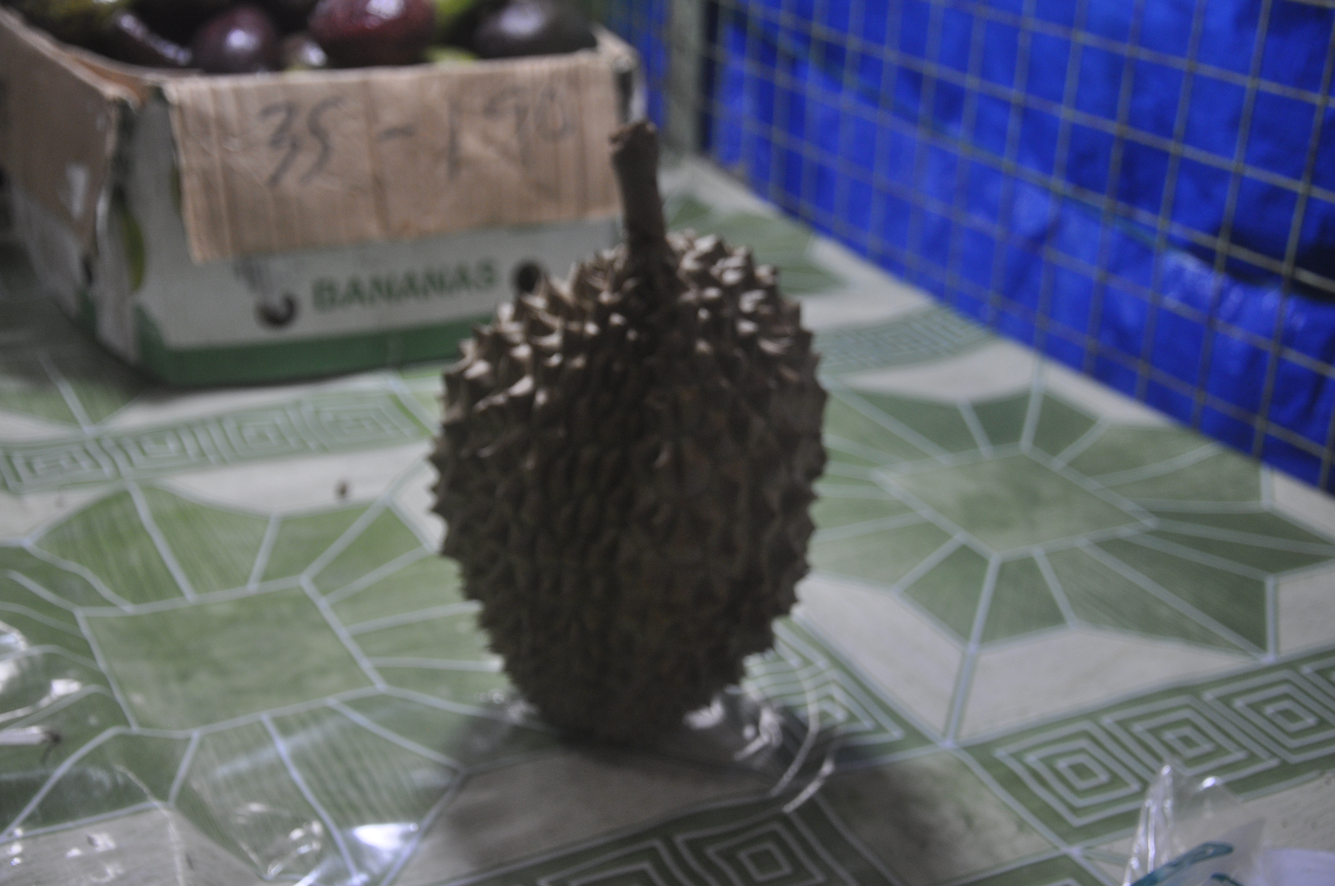mature: (432, 122, 826, 742)
